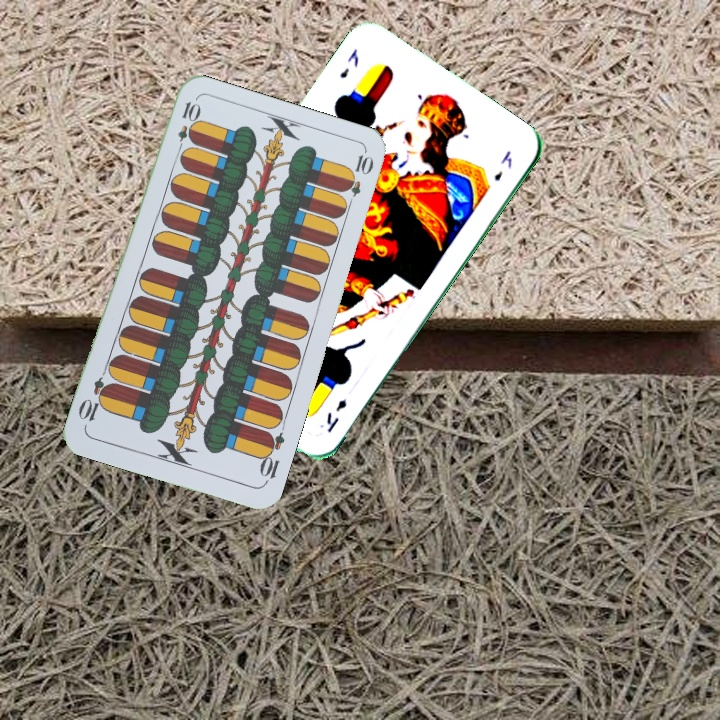E10: (255, 428, 287, 487), (173, 97, 201, 156)
EK: (322, 395, 350, 436), (335, 45, 362, 81)
